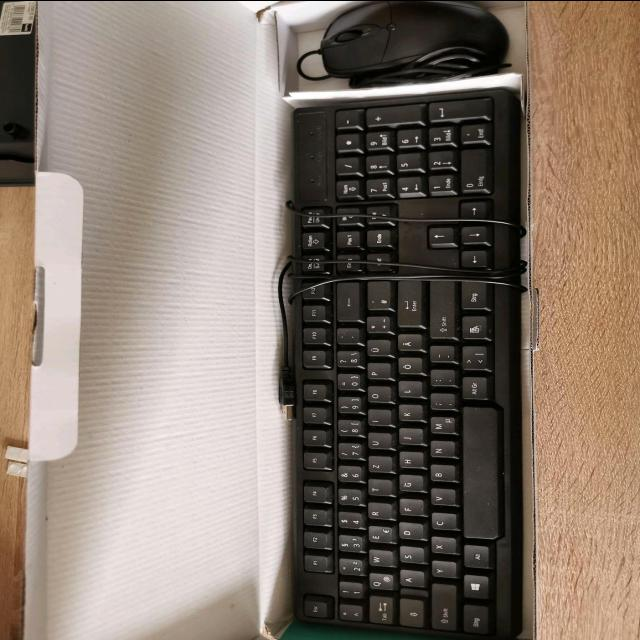0: (334, 374, 361, 392)
1: (336, 582, 362, 600)
2: (335, 559, 362, 577)
3: (335, 536, 361, 554)
4: (335, 512, 361, 530)
5: (335, 489, 361, 507)
6: (335, 466, 361, 484)
7: (334, 443, 362, 461)
8: (334, 420, 362, 438)
9: (334, 397, 362, 415)
a: (397, 571, 423, 589)
accent: (334, 329, 358, 346)
ae: (394, 334, 420, 352)
alt-left: (461, 544, 489, 570)
altgr-right: (459, 377, 485, 401)
b: (427, 465, 453, 483)
c: (428, 513, 454, 532)
caret: (335, 605, 361, 623)
comma: (427, 394, 454, 412)
d: (396, 523, 422, 541)
del: (333, 283, 359, 323)
e: (365, 526, 392, 544)
enter: (395, 281, 421, 329)
f: (396, 499, 422, 517)
g: (396, 475, 422, 493)
h: (396, 452, 422, 470)
hash: (365, 281, 391, 311)
i: (365, 410, 389, 428)
j: (396, 428, 422, 446)
k: (396, 405, 421, 423)
keyboard: (276, 80, 526, 640)
l: (395, 381, 421, 399)
less: (462, 344, 488, 370)
m: (427, 417, 454, 435)
minus: (427, 346, 453, 364)
n: (427, 441, 453, 459)
o: (364, 387, 389, 405)
oe: (395, 358, 421, 376)
p: (365, 363, 389, 381)
plus: (363, 317, 389, 335)
point: (427, 370, 453, 388)
q: (366, 574, 392, 592)
r: (365, 503, 391, 521)
s: (396, 547, 422, 565)
shift-left: (427, 584, 455, 633)
shift-lock: (397, 599, 423, 629)
shift-right: (426, 282, 454, 340)
space: (459, 407, 499, 541)
ss: (334, 351, 360, 369)
strg-left: (460, 605, 488, 637)
strg-right: (459, 281, 487, 311)
t: (365, 480, 390, 497)
tab: (366, 596, 392, 626)
u: (365, 433, 390, 451)
ue: (364, 340, 389, 358)
v: (427, 489, 453, 507)
w: (365, 550, 391, 568)
x: (428, 537, 454, 555)
y: (428, 561, 454, 580)
z: (365, 457, 391, 475)
